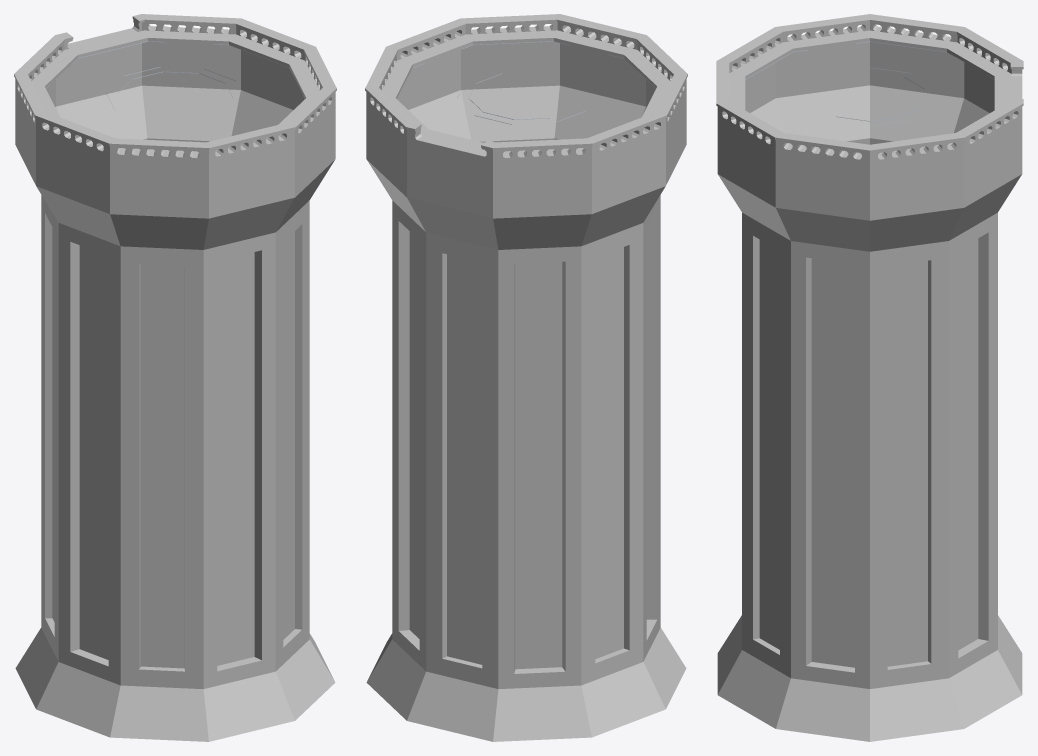
Rendered from AreaColumn.fbx.
3 views of the same model, side by side, from view 1: azimuth 30°, elevation 25°; view 2: azimuth 150°, elevation 25°; view 3: azimuth 270°, elevation 25° (orthographic).
Parts seen in each view (by area): view 1: AreaColumn; view 2: AreaColumn; view 3: AreaColumn.
Part boxes in pixels (box(x1,y1,x2,y2)): AreaColumn: box(14, 14, 336, 741); AreaColumn: box(365, 14, 687, 741); AreaColumn: box(716, 14, 1023, 741).
Size of the model in its own units: 6051 by 12229 by 5755.
